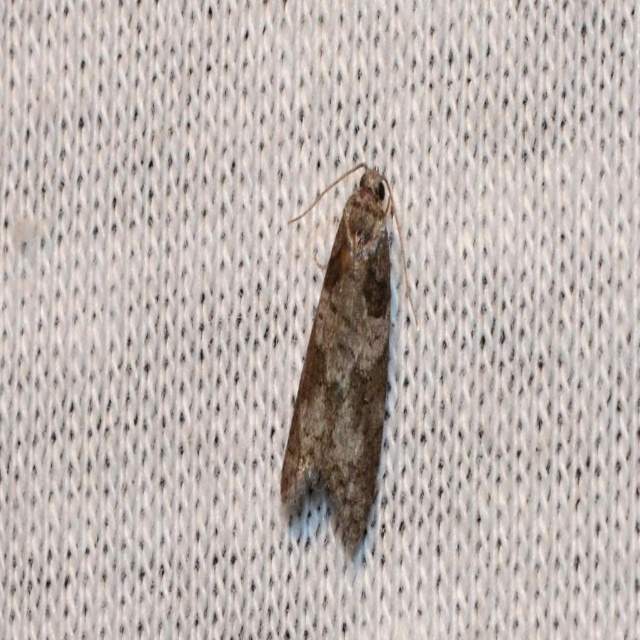Moths and butterflies: (279, 155, 422, 563)
